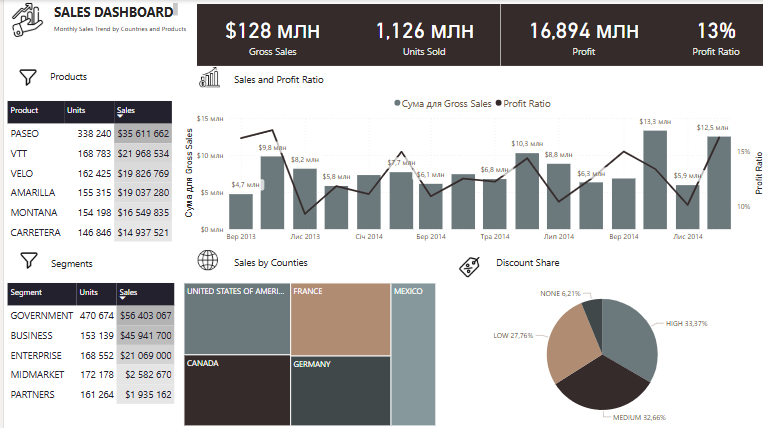

Layout of this report page (visuals, bound fields, positions):
{"tool":"powerbi","page":{"name":"Сторінка 1","canvas":[1280,720],"ordinal":0},"visuals":[{"type":"card","fields":{"Values":["Sum(financials.Gross Sales)"]},"box":[324.2,6.7,254.1,104.1],"z":0,"group":"g1"},{"type":"lineStackedColumnComboChart","fields":{"Category":["Calendar.Date"],"Y":["Sum(financials.Gross Sales)"],"Y2":["_calc.Profit Ratio"]},"box":[297.3,151.2,982.7,263.7],"z":0},{"type":"card","fields":{"Values":["Sum(financials.Units Sold)"]},"box":[578.3,6.7,256,104.1],"z":1000,"group":"g1"},{"type":"tableEx","fields":{"Values":["financials.Product","Sum(financials.Units Sold)","Sum(financials.Gross Sales)"]},"box":[0,164.6,297.3,250.3],"z":1000},{"type":"card","fields":{"Values":["Sum(financials.Profit)"]},"box":[834.3,6.7,278.1,104.1],"z":2000,"group":"g1"},{"type":"group","id":"g1","title":"Група 1","box":[324.2,6.7,955.8,104.1],"z":2000},{"type":"card","fields":{"Values":["_calc.Profit Ratio"]},"box":[1112.4,6.7,167.6,104.1],"z":3000,"group":"g1"},{"type":"tableEx","fields":{"Values":["financials.Segment","Sum(financials.Units Sold)","Sum(financials.Gross Sales)"]},"box":[0,470.3,297.3,236.9],"z":3000},{"type":"treemap","fields":{"Group":["financials.Country"],"Values":["Sum(financials.Gross Sales)"]},"box":[297.3,470.3,433.4,250.3],"z":4000},{"type":"pieChart","fields":{"Category":["financials.Discount Band"],"Y":["Sum(financials.Gross Sales)"]},"box":[730.7,470.3,549.3,250.3],"z":5000},{"type":"textbox","box":[79,0,218.4,33.6],"z":6000},{"type":"image","box":[0,0,79,67.2],"z":7000},{"type":"textbox","box":[79,33.6,245.2,47],"z":8000},{"type":"image","box":[8.4,107.5,63.8,43.7],"z":9000},{"type":"image","box":[5,414.9,73.9,43.7],"z":10000},{"type":"textbox","box":[72.2,112.5,194.9,43.7],"z":11000},{"type":"textbox","box":[73.9,426.7,203.3,43.7],"z":12000},{"type":"image","box":[297.3,414.9,89,43.7],"z":13000},{"type":"image","box":[730.7,426.7,102.5,43.7],"z":14000},{"type":"image","box":[304,107.5,82.3,43.7],"z":15000},{"type":"textbox","box":[381.3,117.6,324.2,33.6],"z":15001},{"type":"textbox","box":[381.3,425,324.2,33.6],"z":15002},{"type":"textbox","box":[821.4,425,324.2,33.6],"z":15003}]}

Visuals, with their boxes in screenshot pixels (x1, y1, x2, y2), scaled from the page's 1280x720 canvas onto the 763x428 screenshot:
card - Sum(financials.Gross Sales): bbox=[193, 4, 345, 66]
lineStackedColumnComboChart - Calendar.Date x Sum(financials.Gross Sales): bbox=[177, 90, 762, 247]
card - Sum(financials.Units Sold): bbox=[345, 4, 497, 66]
tableEx - financials.Product x Sum(financials.Units Sold): bbox=[0, 98, 177, 247]
card - Sum(financials.Profit): bbox=[497, 4, 663, 66]
"Група 1" group: bbox=[193, 4, 762, 66]
card - _calc.Profit Ratio: bbox=[663, 4, 762, 66]
tableEx - financials.Segment x Sum(financials.Units Sold): bbox=[0, 280, 177, 420]
treemap - financials.Country x Sum(financials.Gross Sales): bbox=[177, 280, 436, 427]
pieChart - financials.Discount Band x Sum(financials.Gross Sales): bbox=[436, 280, 762, 427]
textbox: bbox=[47, 0, 177, 20]
image: bbox=[0, 0, 47, 40]
textbox: bbox=[47, 20, 193, 48]
image: bbox=[5, 64, 43, 90]
image: bbox=[3, 247, 47, 273]
textbox: bbox=[43, 67, 159, 93]
textbox: bbox=[44, 254, 165, 280]
image: bbox=[177, 247, 230, 273]
image: bbox=[436, 254, 497, 280]
image: bbox=[181, 64, 230, 90]
textbox: bbox=[227, 70, 421, 90]
textbox: bbox=[227, 253, 421, 273]
textbox: bbox=[490, 253, 683, 273]
